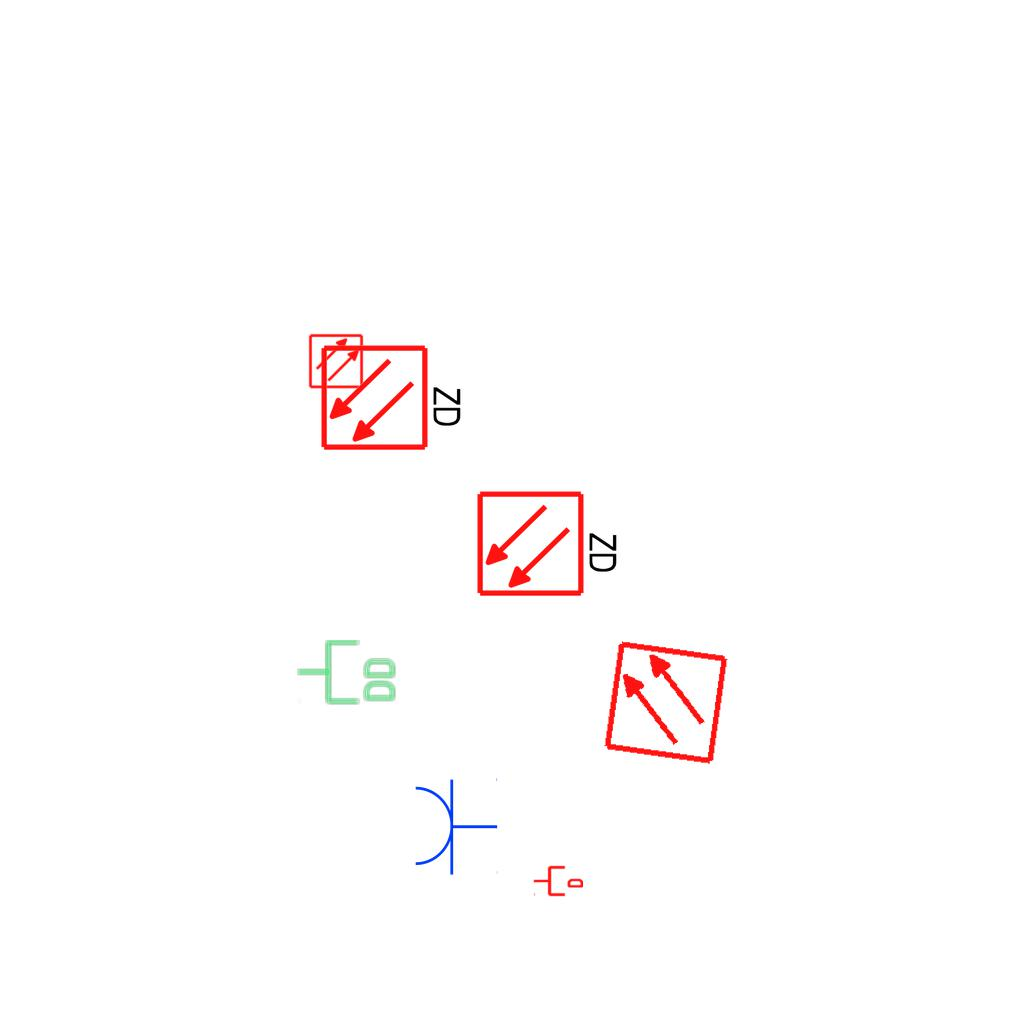Datenanschluss_einfach: (533, 864, 583, 898)
Datenanschluss_zweifach: (295, 638, 398, 707)
RMO_Rauchmelder_optischer: (601, 638, 730, 767), (308, 333, 364, 389)
Schukosteckdose_einfach: (411, 776, 498, 876)
ZD_Melder_in_Zwischendecke_mit_Revisionsoeffnung_mind_40_x_40_cm: (475, 485, 624, 599), (319, 339, 468, 453)
